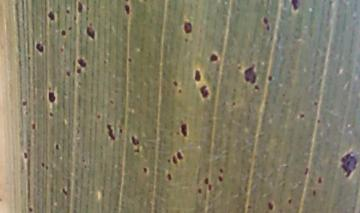tarspot: (340, 150, 357, 179), (241, 65, 259, 84), (197, 83, 212, 100), (178, 118, 190, 139), (45, 88, 59, 105), (104, 122, 116, 141), (33, 40, 46, 55), (84, 26, 97, 40), (44, 9, 58, 22), (129, 133, 141, 148), (182, 21, 194, 35), (193, 66, 202, 84), (207, 50, 219, 63), (74, 1, 86, 14), (290, 1, 301, 15), (77, 55, 88, 68), (123, 4, 132, 18), (176, 147, 185, 161), (59, 185, 70, 196), (265, 72, 275, 84), (266, 200, 275, 213), (165, 170, 174, 183), (140, 164, 150, 175), (29, 120, 38, 132), (47, 108, 56, 120), (24, 204, 36, 213), (316, 172, 323, 187), (21, 149, 29, 162), (54, 140, 62, 153), (196, 184, 204, 197), (297, 109, 305, 122), (285, 196, 294, 207), (314, 115, 323, 126), (172, 77, 180, 89), (59, 28, 68, 38), (252, 83, 261, 93), (263, 24, 273, 33), (21, 97, 29, 108), (126, 55, 134, 66), (164, 156, 173, 165), (216, 174, 224, 184), (261, 14, 269, 24), (311, 99, 322, 106), (311, 186, 318, 197), (64, 69, 72, 78), (202, 175, 210, 184), (93, 112, 102, 120), (64, 7, 71, 15), (39, 161, 46, 169)
